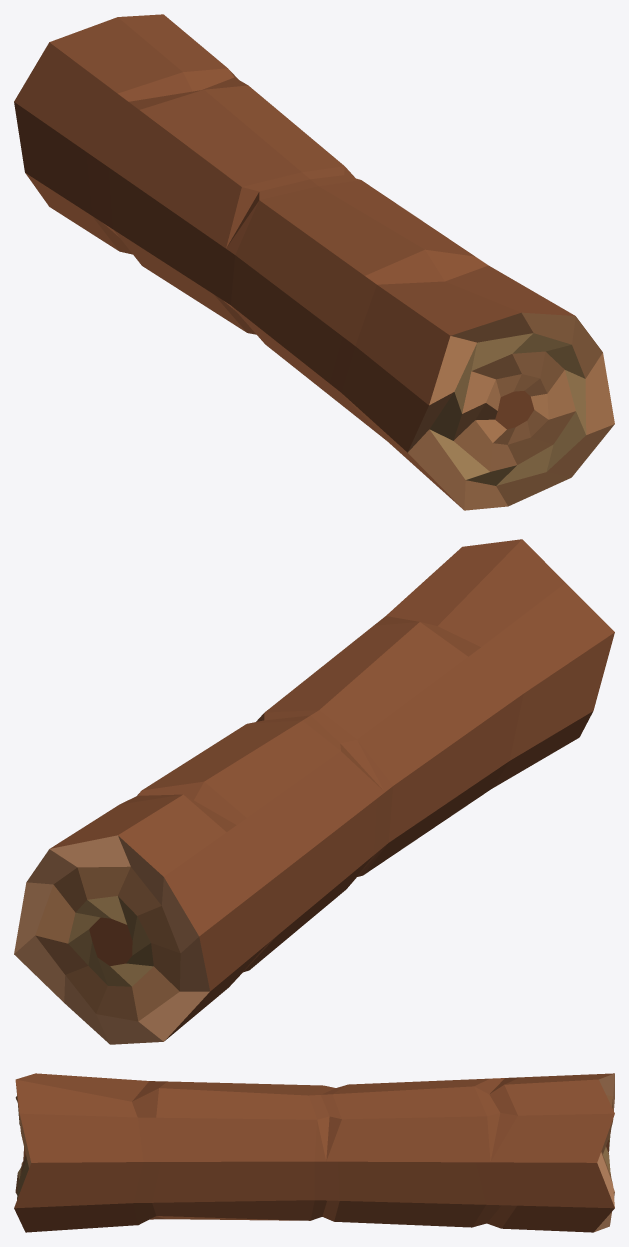
File: wood.fbx
3 views of the same model, one above another, from view 1: azimuth 30°, elevation 25°; view 2: azimuth 150°, elevation 25°; view 3: azimuth 270°, elevation 25° (orthographic). The views are drawn at different scales.
Visible parts, largest first — view 1: wood; view 2: wood; view 3: wood.
Part boxes in pixels (box(x1,y1,x2,y2)): wood: box(14, 14, 614, 510); wood: box(14, 539, 614, 1044); wood: box(14, 1073, 614, 1232).
Bounding box in the file's own units: 0.9328 × 0.9808 × 3.64.
